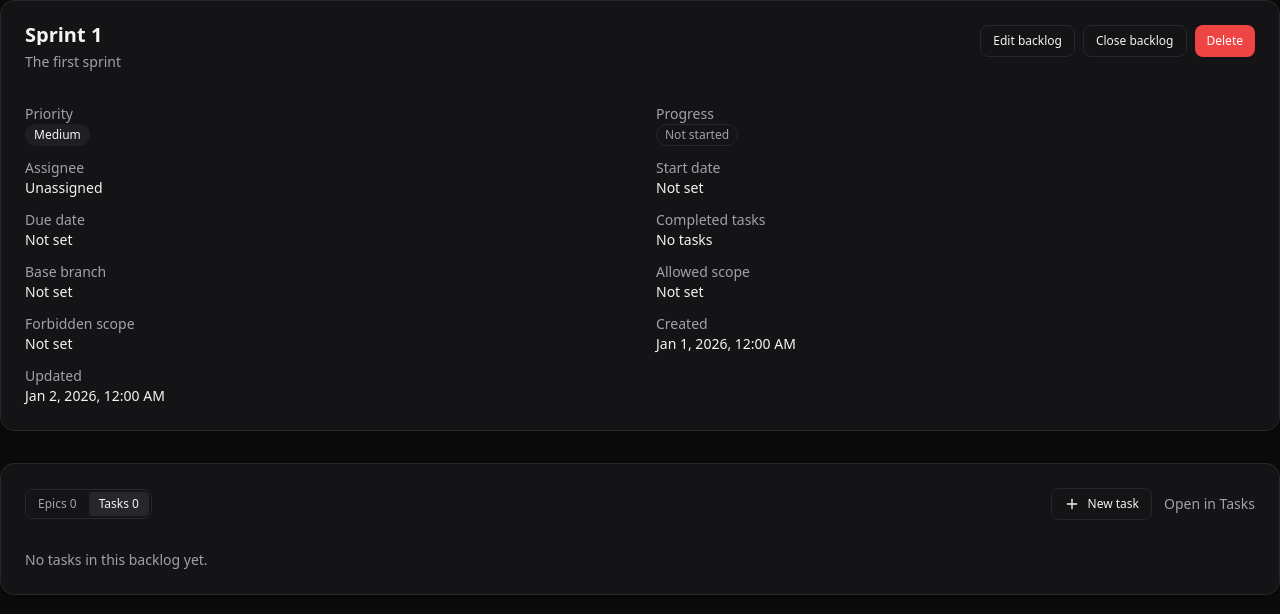
it: closing a backlog › closes through the object's own endpoint and shows the badge
The width and height of the screenshot is (1280, 614).
Expected: the text "Closed" is not shown
Click the button "Close backlog" at (1135, 41), box top-left (1083, 25), bottom-right (1186, 57)
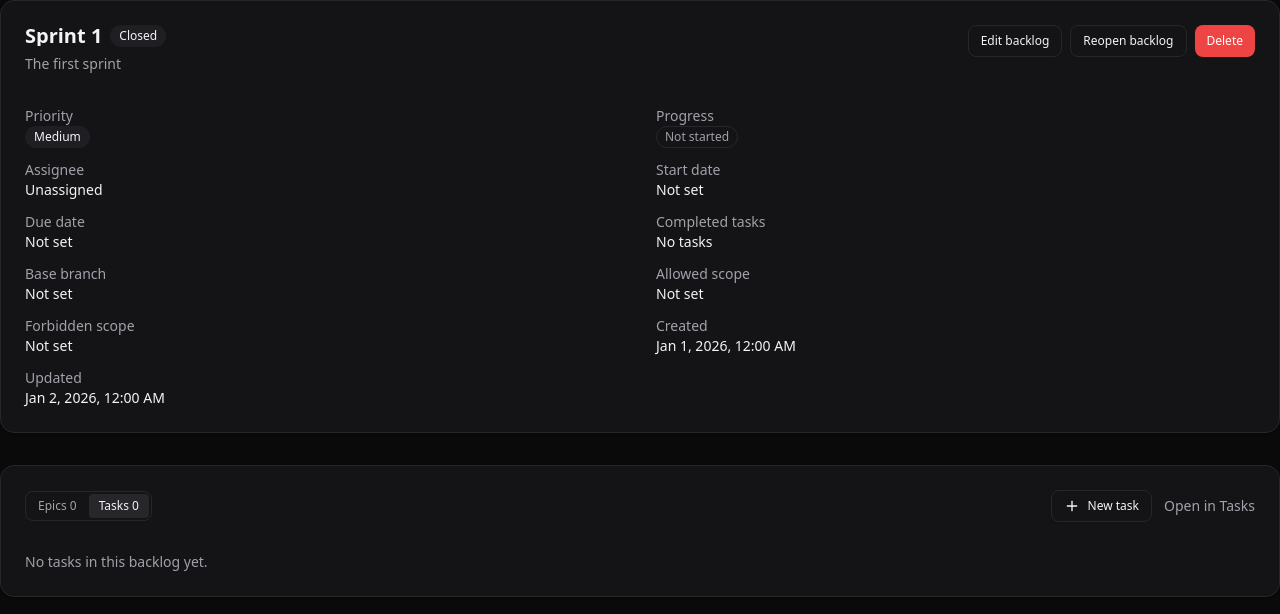
Expected: the text "Closed" is shown, top-left (110, 25), bottom-right (166, 47)
Expected: the button "Reopen backlog" is shown, top-left (1070, 25), bottom-right (1186, 57)
